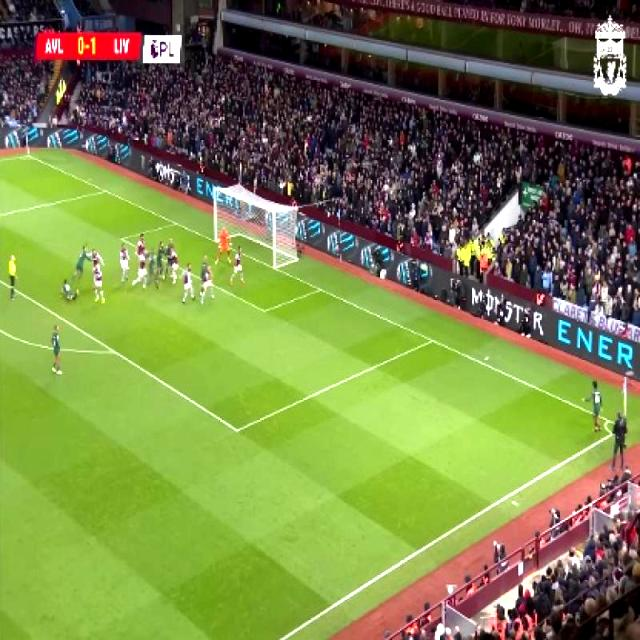bigarea_bottom_inner: (226, 416, 246, 441)
bigarea_bottom_outter: (424, 331, 438, 349)
bigarea_top_outter: (99, 183, 111, 197)
bottom_arc_area_intersection: (105, 340, 122, 362)
corner: (20, 148, 35, 162)
smallarea_bottom_inner: (255, 298, 272, 320)
smallarea_bottom_outter: (312, 280, 326, 297)
smallarea_top_inner: (115, 229, 128, 246)
smallarea_top_outter: (168, 214, 182, 231)
